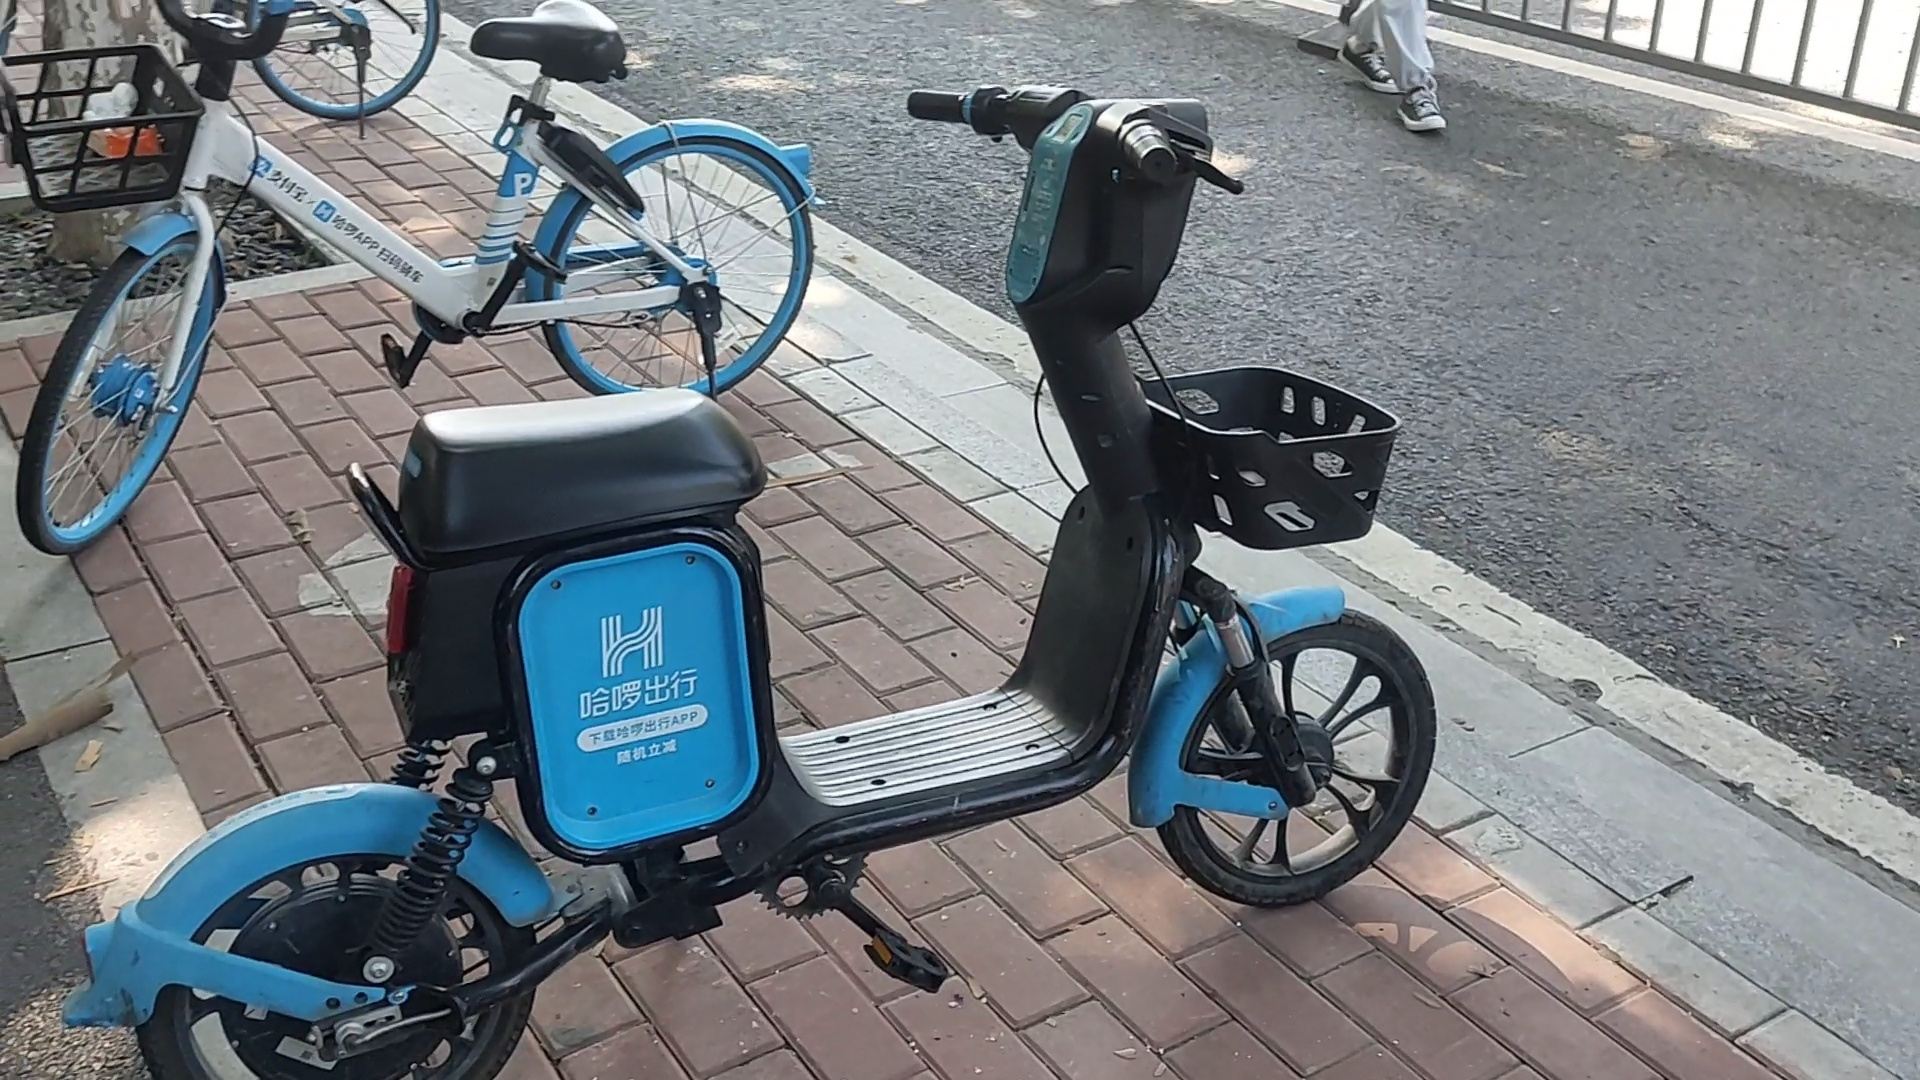non-vehicle: (40, 22, 1494, 1075), (1, 1, 831, 547), (46, 0, 447, 129)
